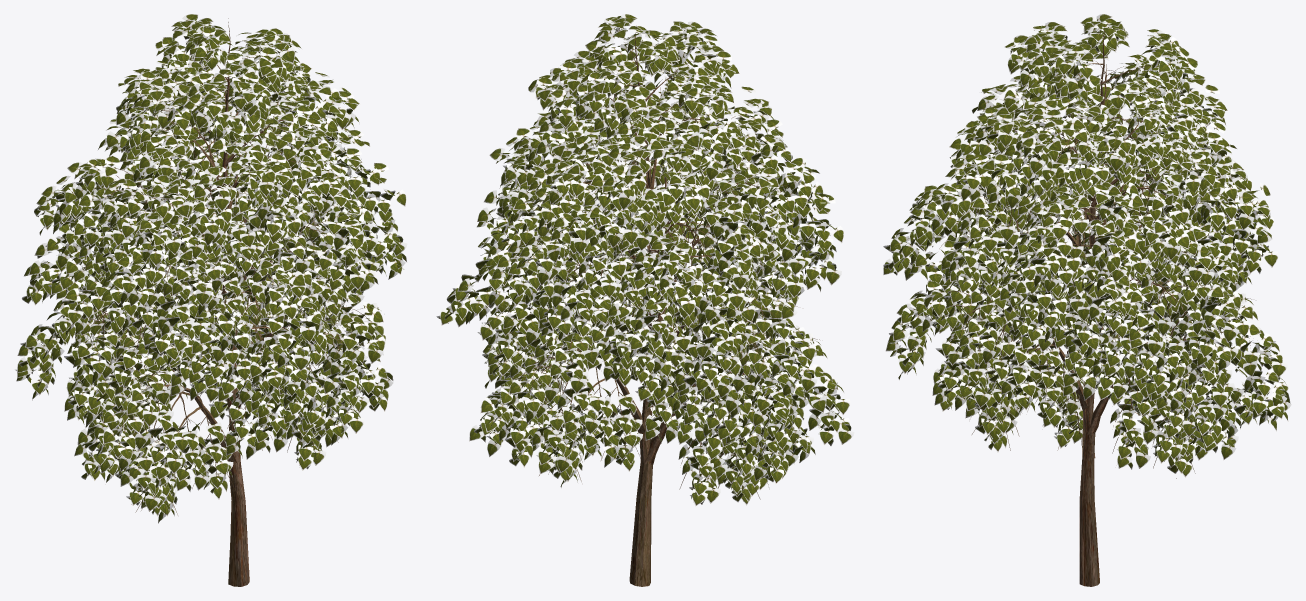
Rendered from Tree.glb.
3 views of the same model, side by side, from view 1: azimuth 30°, elevation 25°; view 2: azimuth 150°, elevation 25°; view 3: azimuth 270°, elevation 25° (orthographic).
Parts seen in each view (by area): view 1: Tree; view 2: Tree; view 3: Tree.
Part boxes in pixels (x1,y1,x2,y2): Tree: (15, 14, 407, 586); Tree: (436, 14, 854, 586); Tree: (883, 14, 1291, 586).
Size of the model in its own units: 5.07 by 7.92 by 5.22.
5 materials, 5 textured.
